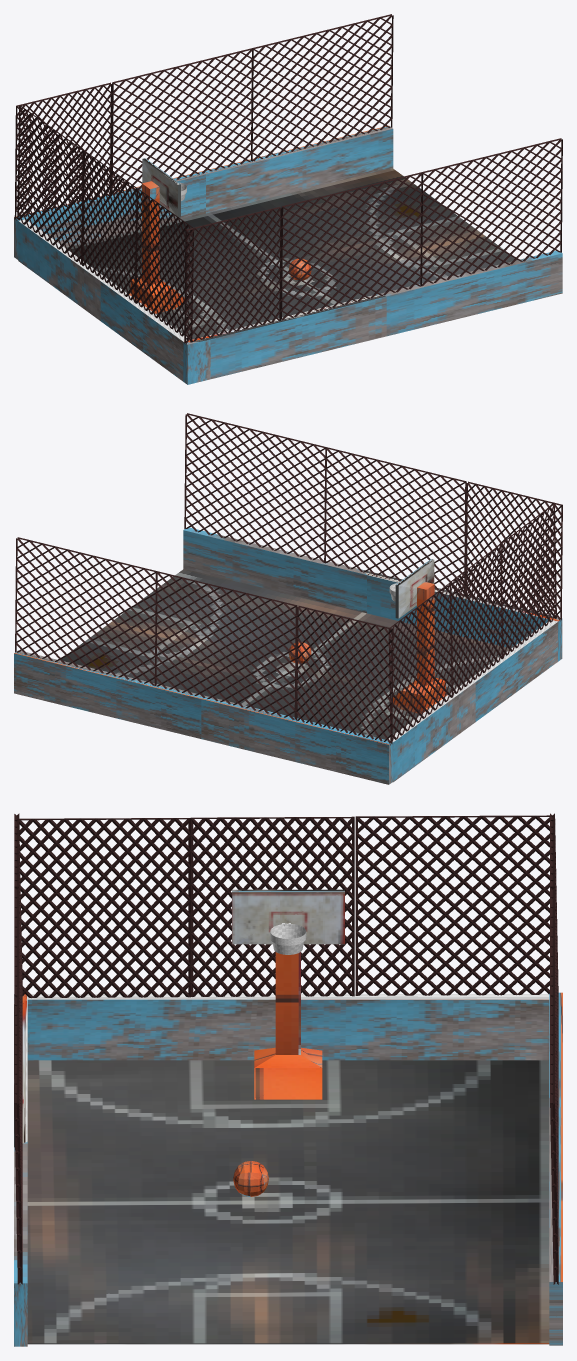
The model's file is basket ball new.fbx.
The picture shows the model from 3 angles, top to bottom: view 1: azimuth 30°, elevation 25°; view 2: azimuth 150°, elevation 25°; view 3: azimuth 270°, elevation 25°; orthographic projection. The views are drawn at different scales.
Visible parts, largest first — view 1: Cube.005, Plane.002; view 2: Cube.005, Plane.002; view 3: Cube.005, Plane.002, Cube.007, Cylinder.
Part boxes in pixels (left/top/right/bottom): Cube.005: left=14, top=125, right=562, bottom=384; Plane.002: left=14, top=14, right=562, bottom=344; Cube.005: left=14, top=527, right=562, bottom=784; Plane.002: left=15, top=413, right=562, bottom=745; Cube.005: left=14, top=889, right=562, bottom=1346; Plane.002: left=14, top=813, right=558, bottom=1284; Cube.007: left=233, top=1161, right=268, bottom=1196; Cylinder: left=270, top=923, right=306, bottom=954.
Size of the model in its own units: 2014 by 789 by 1611.
Materials: 7 (6 with a texture image).
